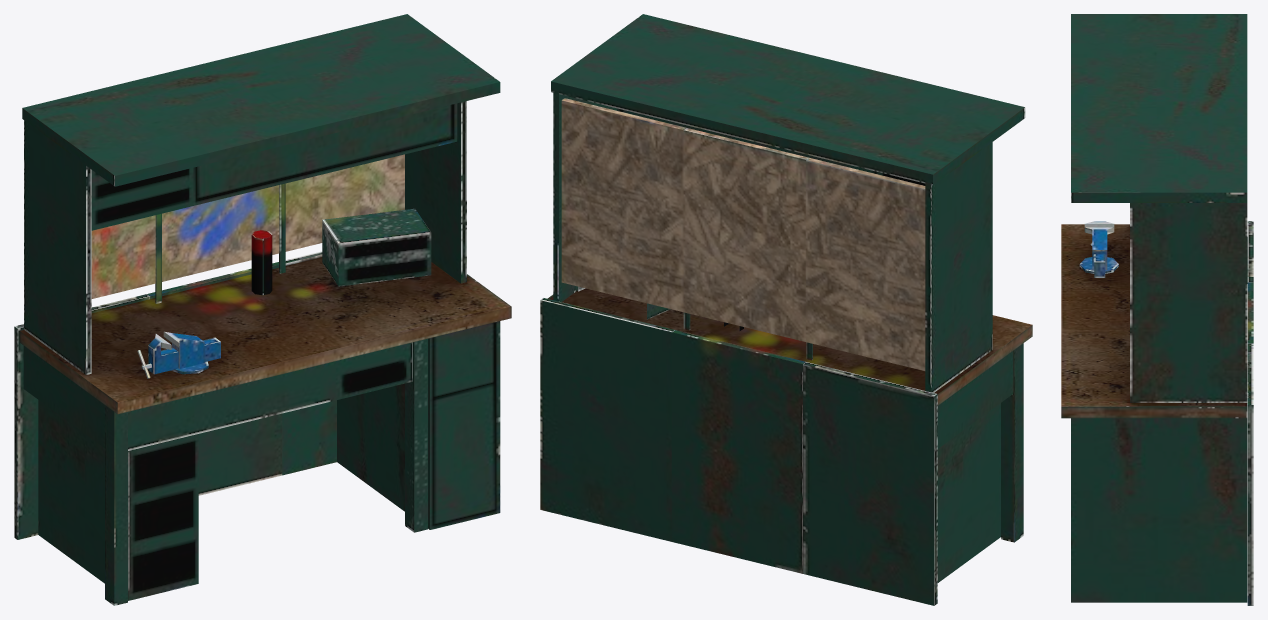
Rendered from workbench_t3_textured.glb.
The picture shows the model from 3 angles, left to right: view 1: azimuth 30°, elevation 25°; view 2: azimuth 150°, elevation 25°; view 3: azimuth 270°, elevation 25°; orthographic projection. The views are drawn at different scales.
Visible parts, largest first — view 1: Cube.013; view 2: Cube.013; view 3: Cube.013.
Boxes of the visible parts, x1,y1,x2,y2 form: Cube.013: [14, 14, 511, 605]; Cube.013: [540, 14, 1032, 605]; Cube.013: [1061, 14, 1253, 605].
Size of the model in its own units: 1.44 by 1.49 by 0.6348.
Materials: 1 (1 with a texture image).
